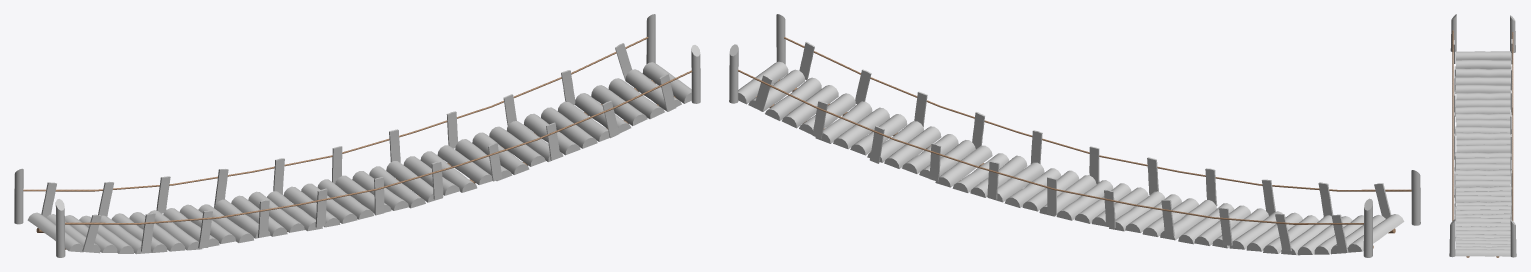
Rendered from bridge01.fbx.
The picture shows the model from 3 angles, left to right: view 1: azimuth 30°, elevation 25°; view 2: azimuth 150°, elevation 25°; view 3: azimuth 270°, elevation 25°; orthographic projection. The views are drawn at different scales.
Visible parts, largest first — view 1: under_rope_2, under_rope_3, wood0_9, wood0_6, wood1_2, wood0_12, wood0_3, wood0_15, wood1_5, wood2_19, wood2_10, wood2_1 (+32 smaller); view 2: under_rope_3, under_rope_2, wood0_9, wood1_2, wood0_3, wood0_6, wood0_12, wood1_5, wood0_15, wood2_19, wood0_0, wood2_1 (+30 smaller); view 3: wood0_36, wood1_35, wood2_34, wood1_32, wood0_33, wood0_27, wood0_30, wood0_0, wood1_23, wood1_29, wood2_31, wood1_17 (+31 smaller).
Part boxes in pixels (<box>): under_rope_2: <box>65,70,692,224</box>; under_rope_3: <box>23,36,648,191</box>; wood0_9: <box>489,126,545,166</box>; wood0_6: <box>541,107,597,148</box>; wood1_2: <box>608,78,664,119</box>; wood0_12: <box>437,145,492,184</box>; wood0_3: <box>591,85,647,125</box>; wood0_15: <box>386,161,442,202</box>; wood1_5: <box>558,101,609,141</box>; wood2_19: <box>317,179,373,219</box>; wood2_10: <box>472,132,529,174</box>; wood2_1: <box>625,69,681,110</box>; under_rope_3: <box>738,69,1363,224</box>; under_rope_2: <box>784,37,1411,191</box>; wood0_9: <box>884,126,941,168</box>; wood1_2: <box>765,77,821,120</box>; wood0_3: <box>782,85,838,128</box>; wood0_6: <box>833,107,889,149</box>; wood0_12: <box>935,145,992,187</box>; wood1_5: <box>815,101,872,143</box>; wood0_15: <box>987,162,1044,202</box>; wood2_19: <box>1056,180,1113,220</box>; wood0_0: <box>738,61,788,104</box>; wood2_1: <box>748,69,804,111</box>; wood0_36: <box>1456,51,1510,60</box>; wood1_35: <box>1456,60,1511,69</box>; wood2_34: <box>1456,68,1510,77</box>; wood1_32: <box>1455,84,1510,93</box>; wood0_33: <box>1456,77,1510,85</box>; wood0_27: <box>1456,119,1510,127</box>; wood0_30: <box>1455,99,1510,107</box>; wood0_0: <box>1455,249,1510,256</box>; wood1_23: <box>1456,144,1510,152</box>; wood1_29: <box>1455,106,1510,115</box>; wood2_31: <box>1456,92,1510,99</box>; wood1_17: <box>1455,180,1510,187</box>.
Bounding box in the file's own units: 1374 × 202 × 187.
4 materials, 1 textured.
